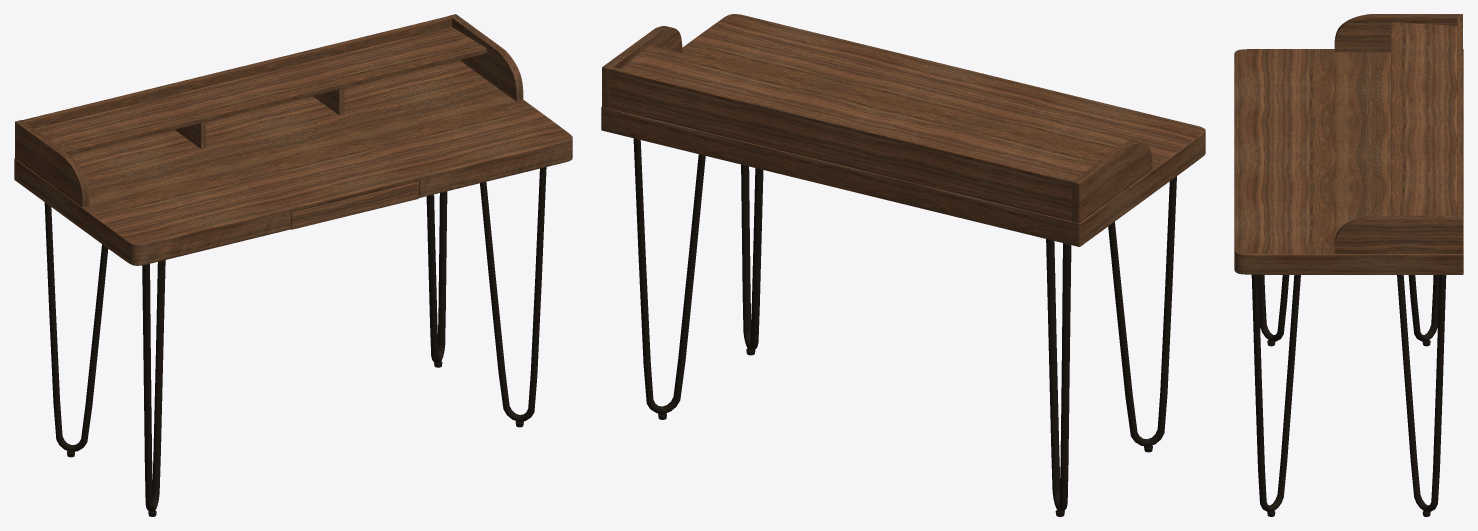
The model's file is desk_B075Z6YS29.glb.
The picture shows the model from 3 angles, left to right: view 1: azimuth 30°, elevation 25°; view 2: azimuth 150°, elevation 25°; view 3: azimuth 270°, elevation 25°; orthographic projection. The views are drawn at different scales.
Parts seen in each view (by area): view 1: RootNode; view 2: RootNode; view 3: RootNode.
Part boxes in pixels (x1=…): RootNode: x1=14, y1=14, x2=572, y2=516; RootNode: x1=601, y1=14, x2=1205, y2=516; RootNode: x1=1234, y1=14, x2=1463, y2=516.
Bounding box in the file's own units: 1.2 × 0.8536 × 0.5653.
1 material, 1 textured.
